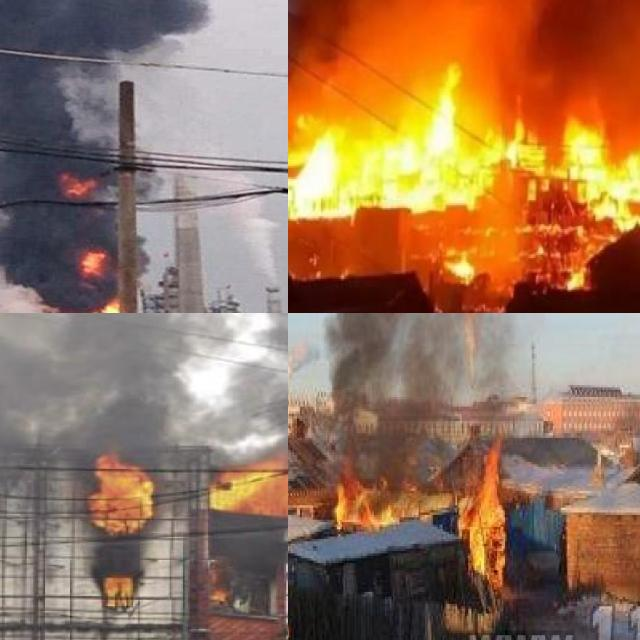fire: (288, 45, 640, 272), (332, 436, 510, 587), (85, 449, 156, 532), (202, 449, 288, 514), (95, 570, 136, 607), (55, 170, 98, 196), (203, 581, 236, 607), (56, 301, 119, 313), (78, 248, 106, 274)
smoke: (0, 313, 288, 568), (0, 0, 214, 310), (315, 313, 640, 481), (288, 0, 640, 130)
